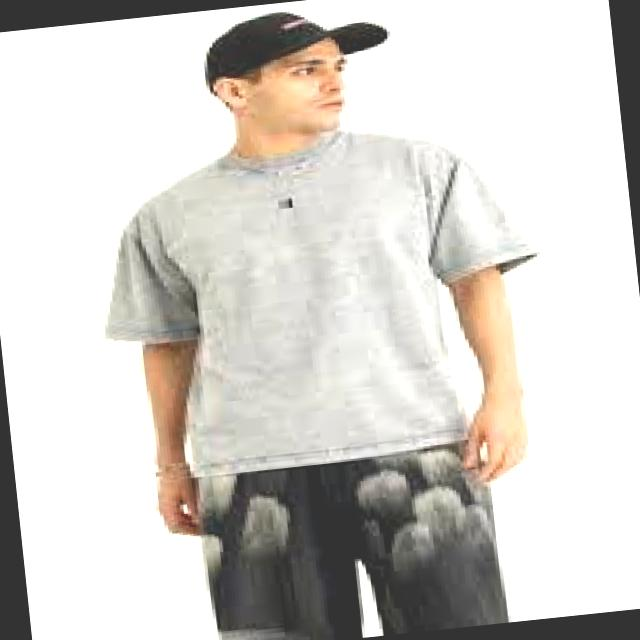face: (236, 38, 348, 134)
hat: (204, 12, 390, 94)
lower-wear: (197, 440, 508, 639)
top-wear: (102, 128, 540, 477)
